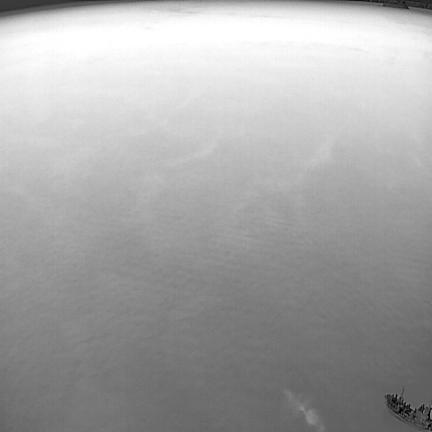flukeprints: (284, 389, 325, 431)
